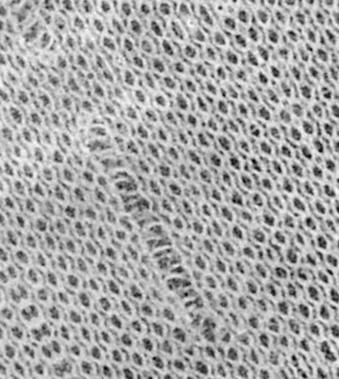slub: (77, 111, 218, 332), (6, 0, 71, 69)
